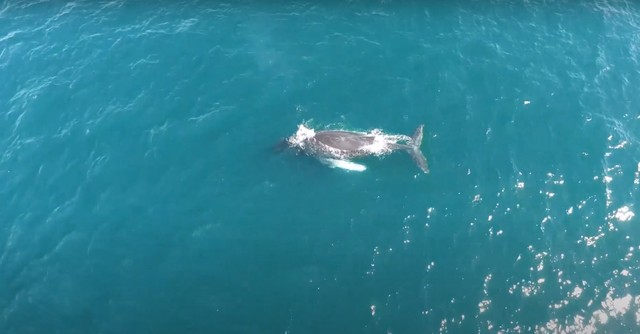whale: (259, 115, 434, 181)
